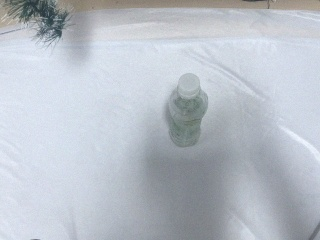bottle: (166, 73, 209, 148)
